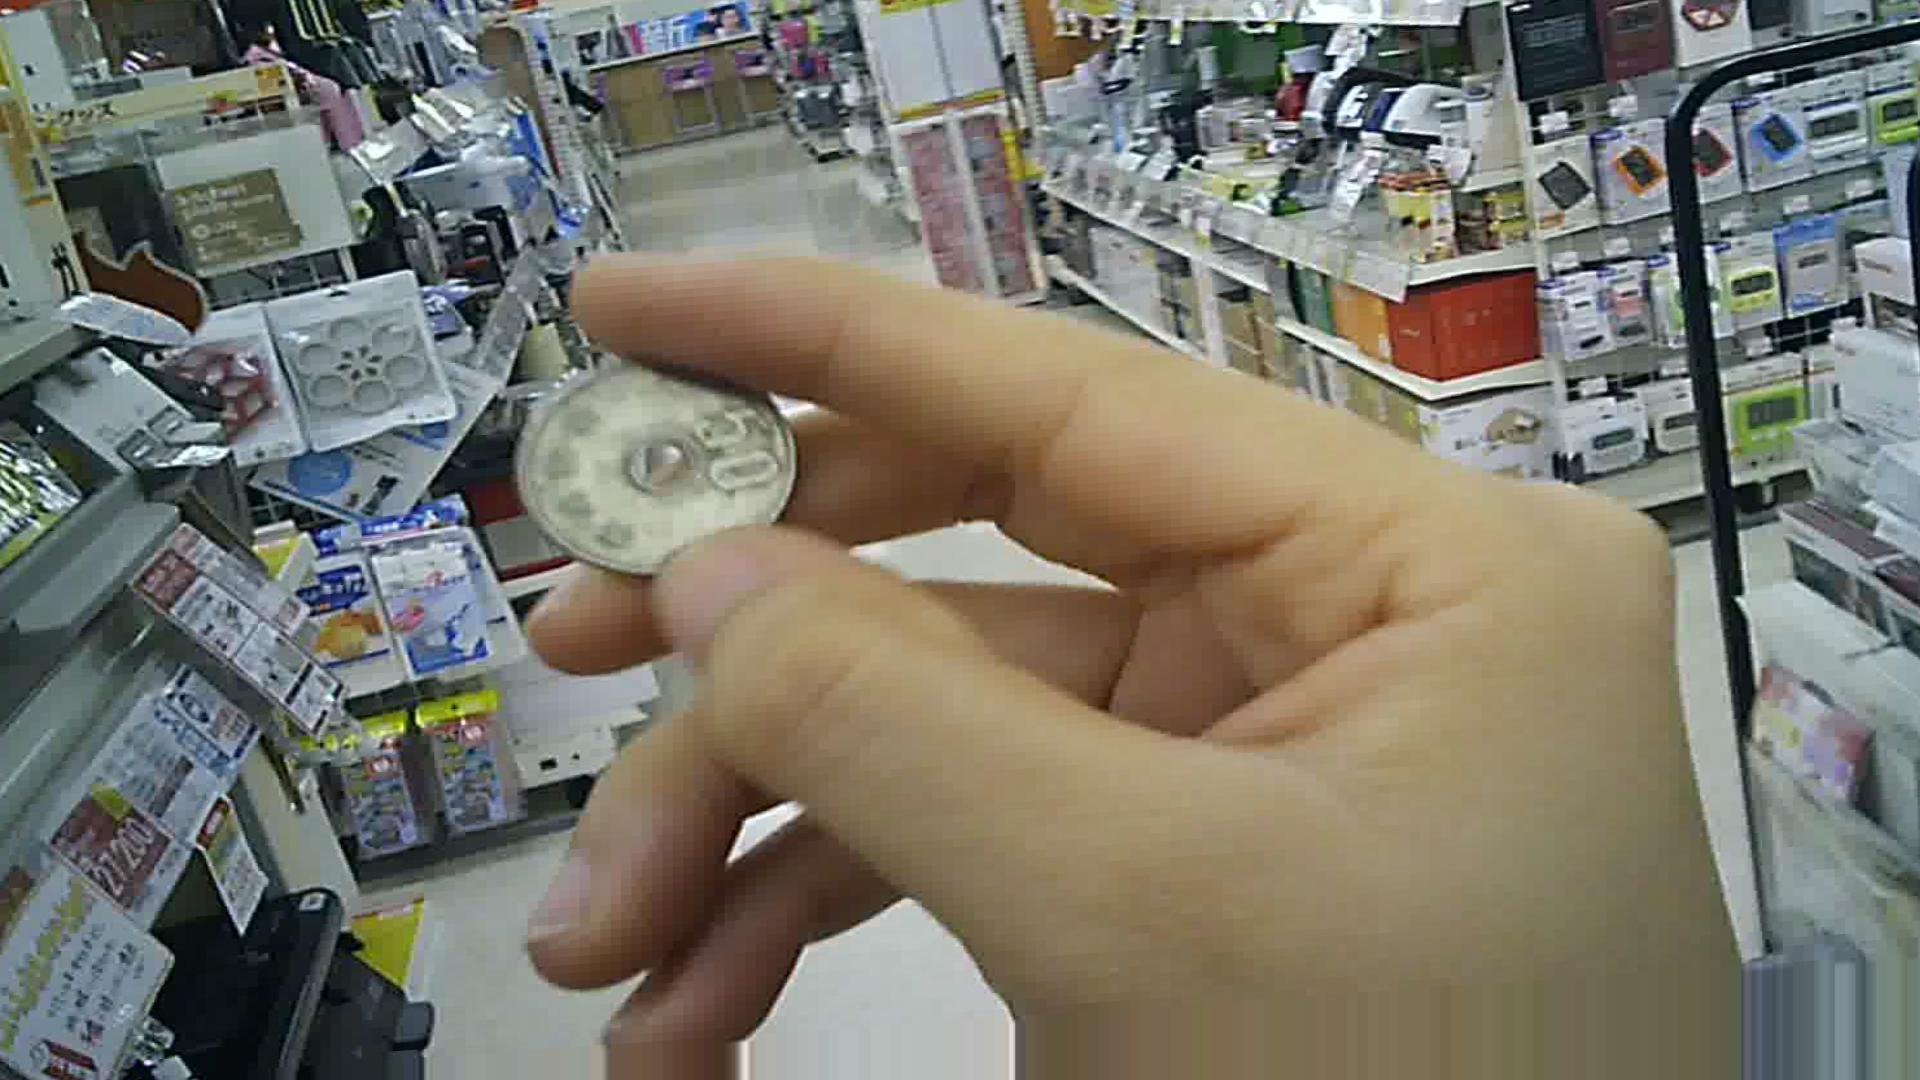50 Yen: (517, 357, 800, 564)
